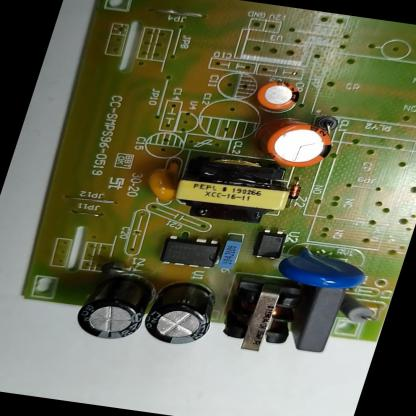Cap1: (257, 117, 338, 171)
Cap2: (253, 77, 303, 112)
Cap3: (138, 278, 224, 349)
Cap4: (70, 271, 157, 344)
MOSFET: (157, 233, 224, 271)
Mov: (273, 244, 372, 292)
Resistor: (331, 293, 381, 326)
Transformer: (168, 152, 300, 229), (216, 274, 312, 360)
